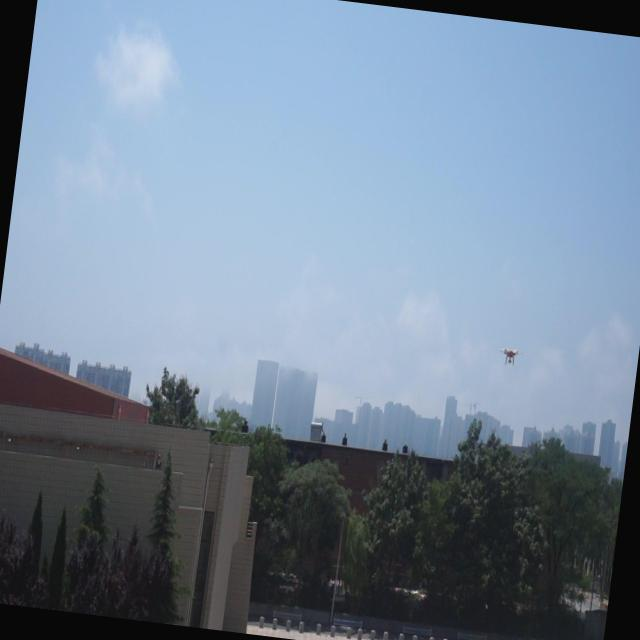drone: (500, 344, 519, 368)
